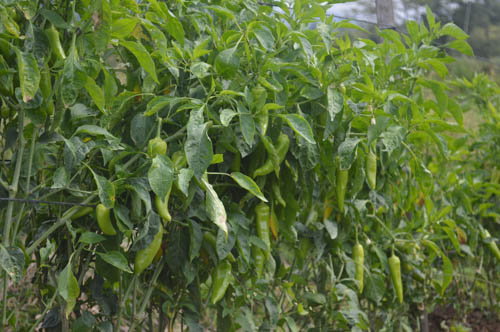ChiliPepper: (253, 138, 288, 184), (135, 226, 161, 282), (248, 198, 272, 258), (381, 255, 405, 301), (148, 181, 175, 218), (211, 267, 232, 304), (332, 161, 348, 209), (347, 242, 362, 291), (96, 203, 112, 238), (364, 148, 375, 186)
